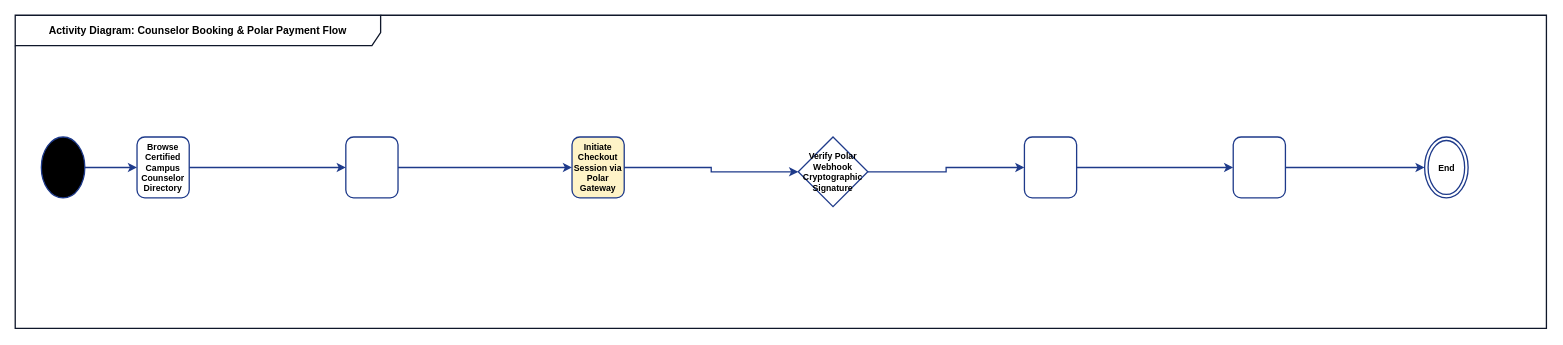
Some shapes in this 1563 by 345 pixel diagram are drawn without their labels. The shapes that lost their labels are listed below. From the top down, each one's centre as x and y in pixels, then its label:
point (371, 167): Select Available Date & Time Consultation Slot
point (1050, 167): Lock Counselor Calendar Slot & Issue Confirmation
point (1259, 167): Transmit Encrypted Dossier to Counselor Portal
